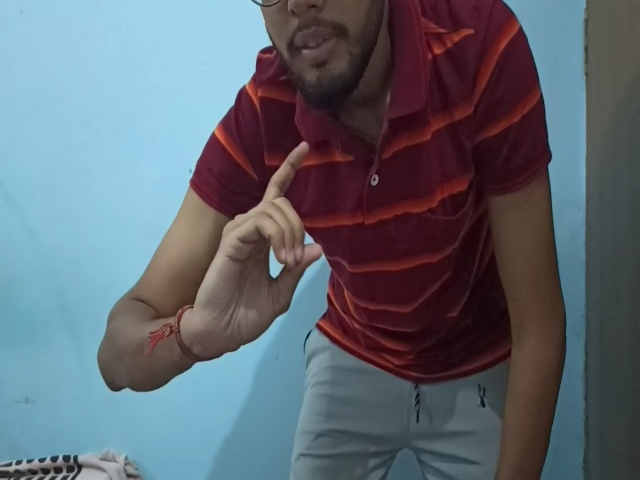D: (193, 142, 327, 360)
